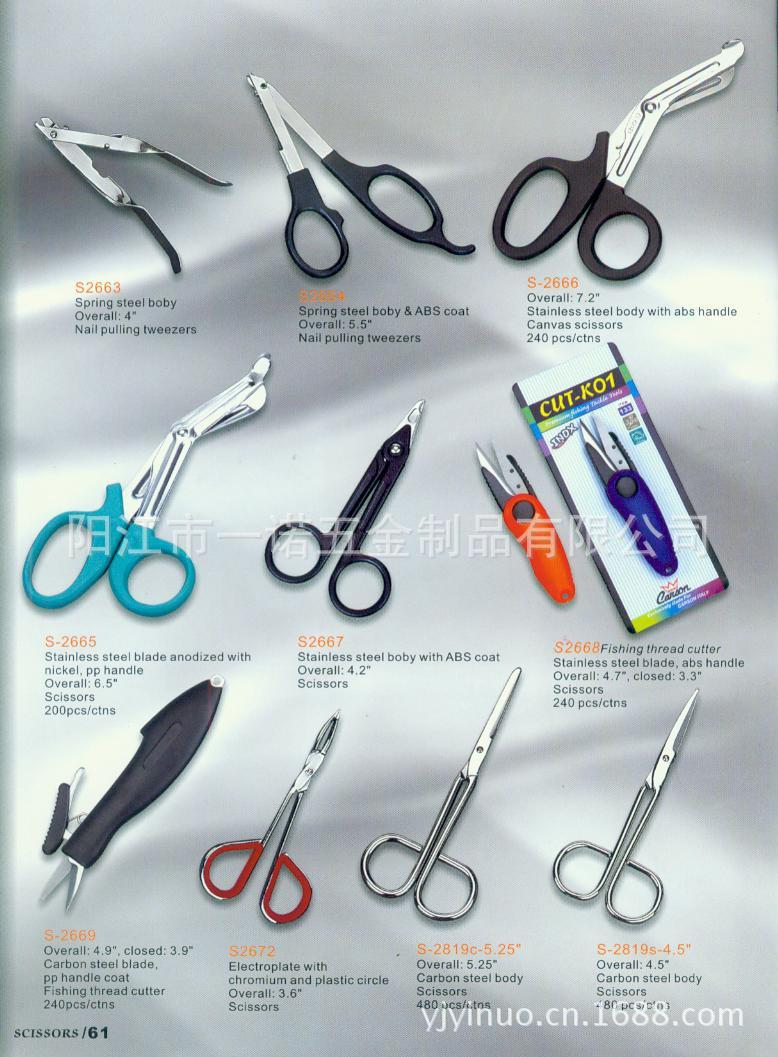scissor: (18, 341, 745, 639), (39, 648, 743, 938), (35, 67, 766, 294)
